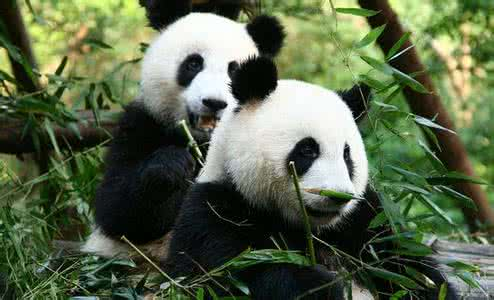panda: (160, 58, 462, 300), (88, 7, 286, 242)
